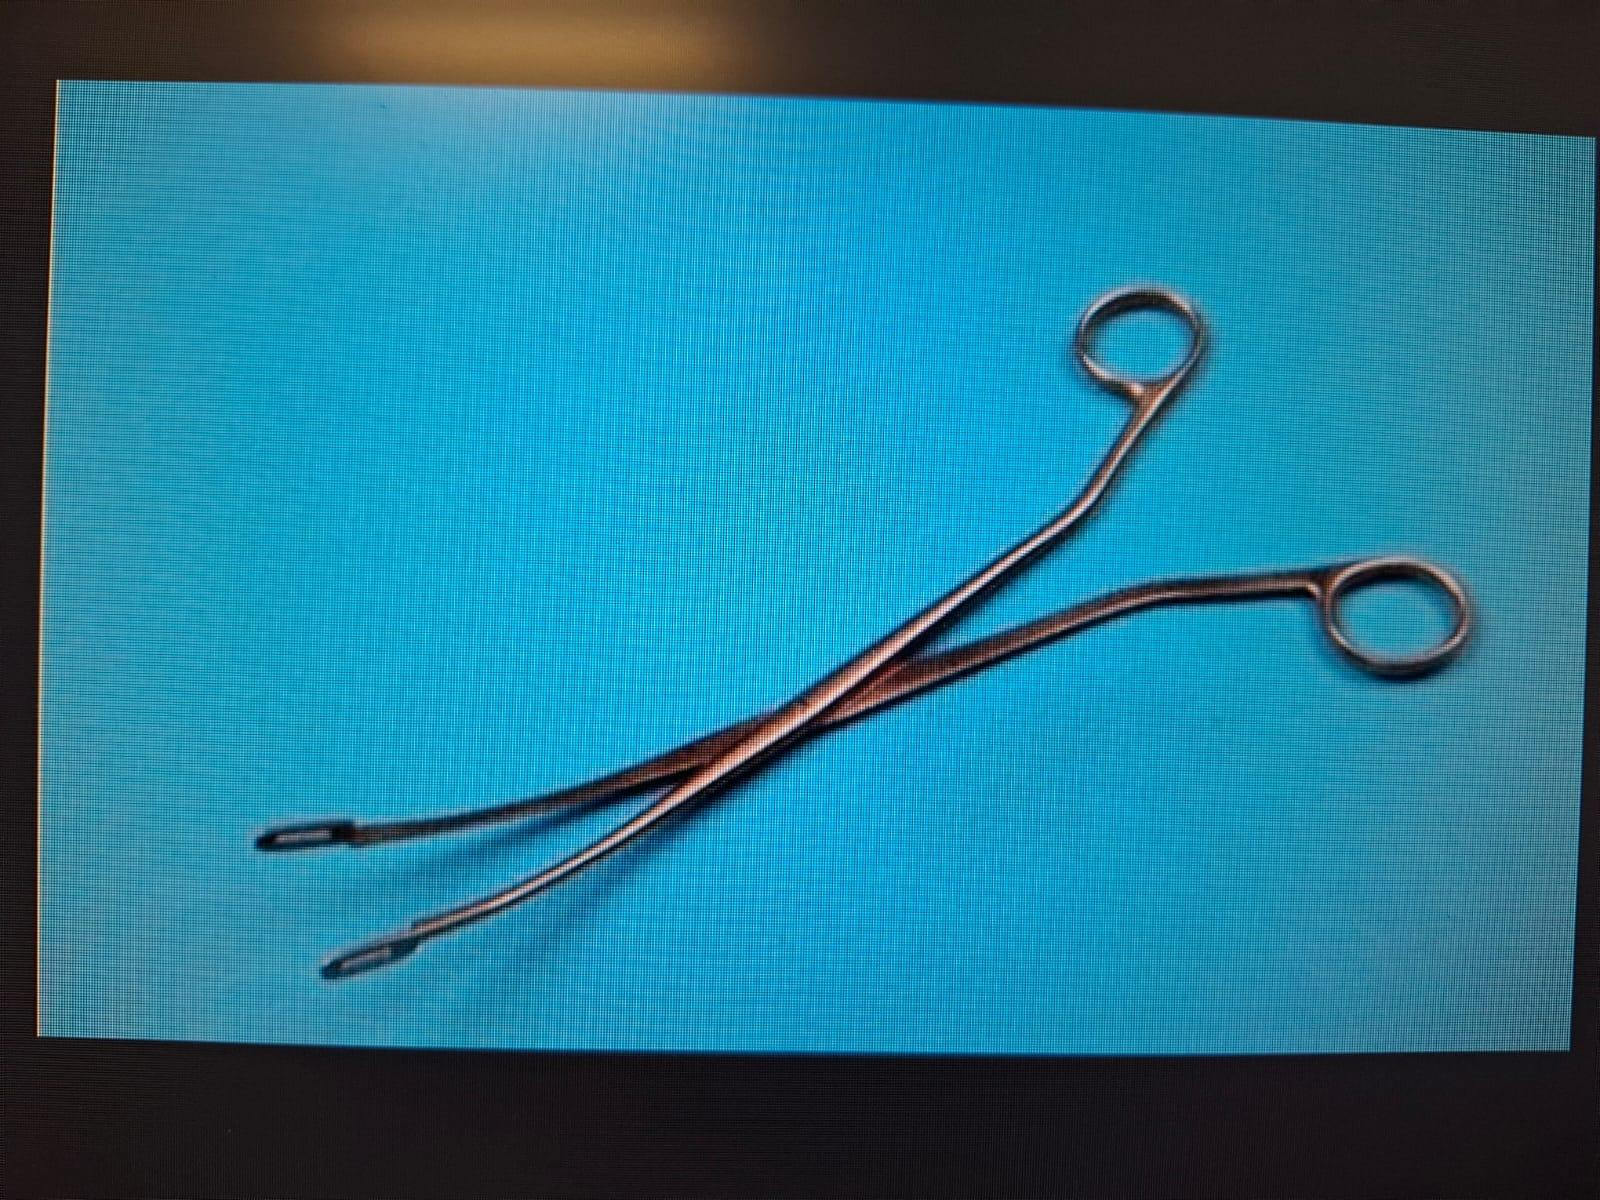Desjardin Forceps: (248, 274, 1492, 996)
